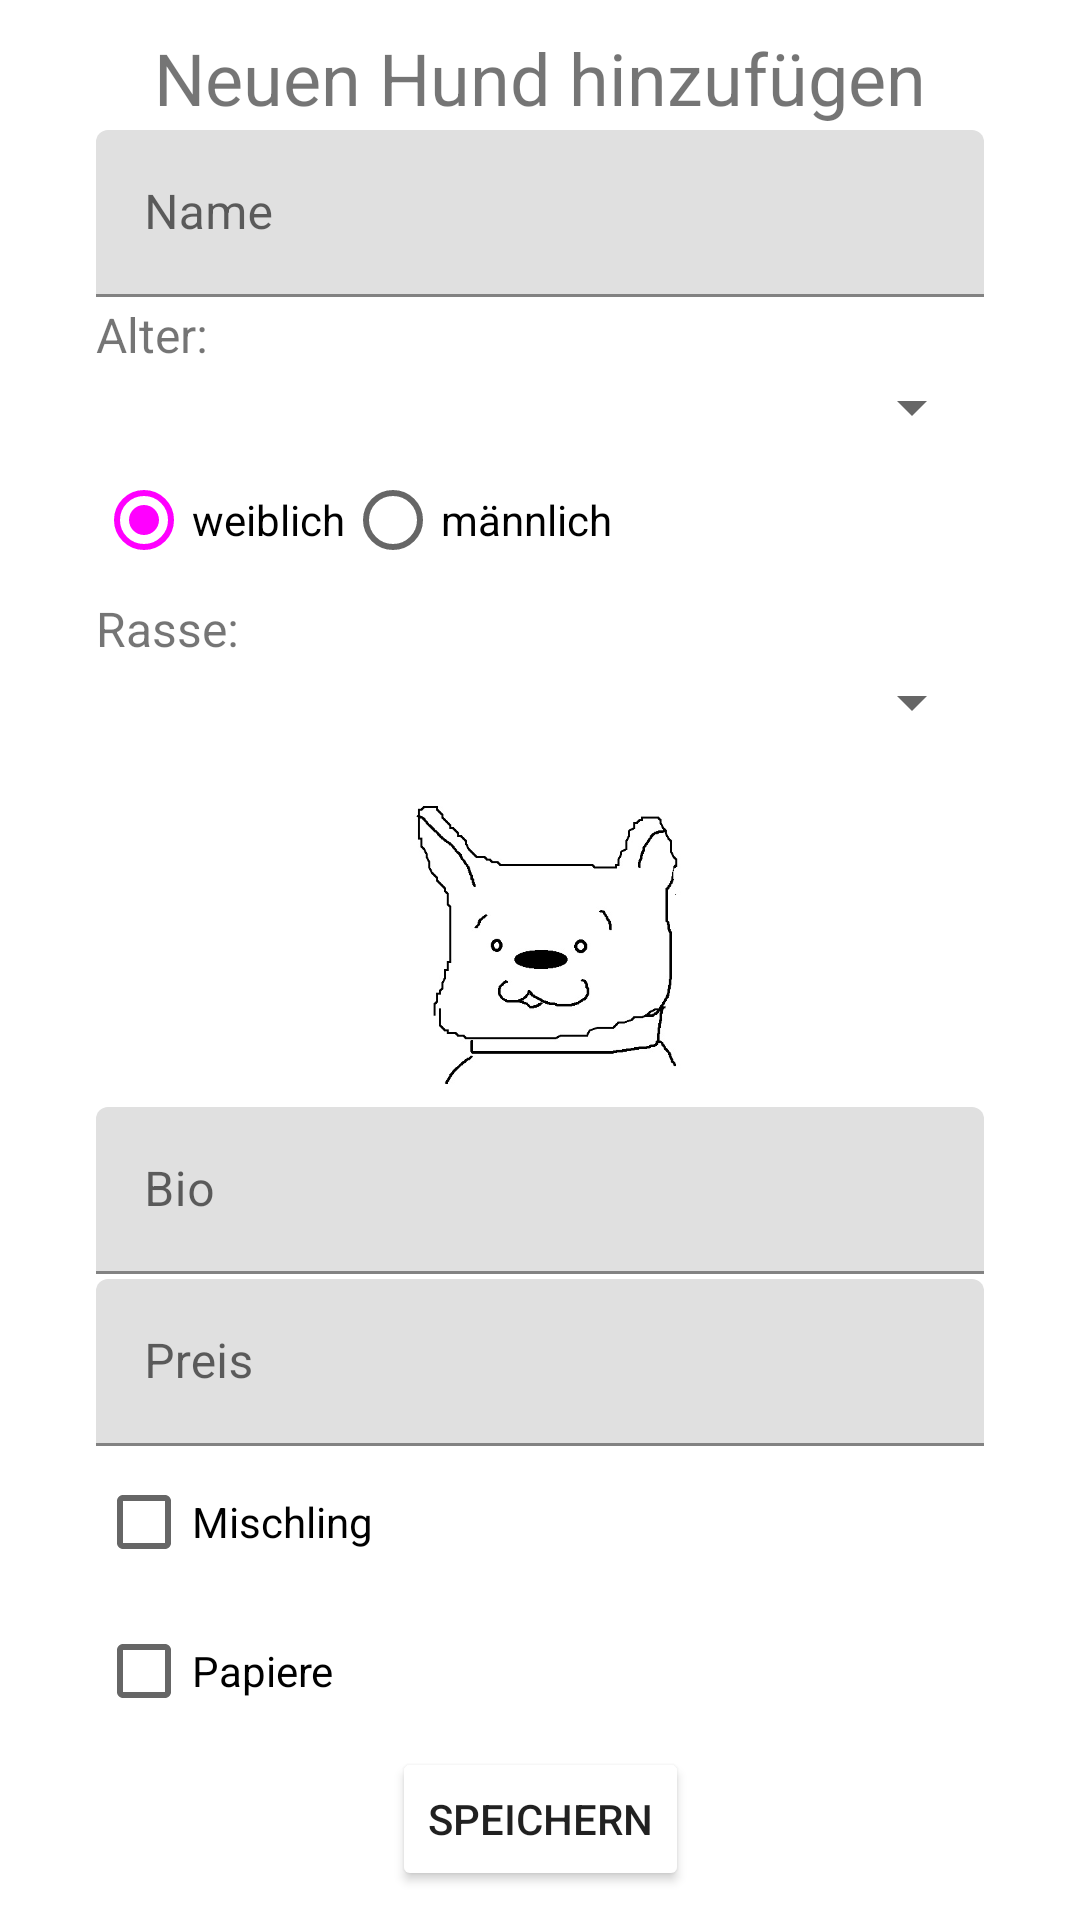

Screen size 1080 × 1920. Icon name, then its box in pixels as (x1=x1, y1=y1, x2=x2, y2=y2):
dog: (x1=416, y1=806, x2=678, y2=1084)
